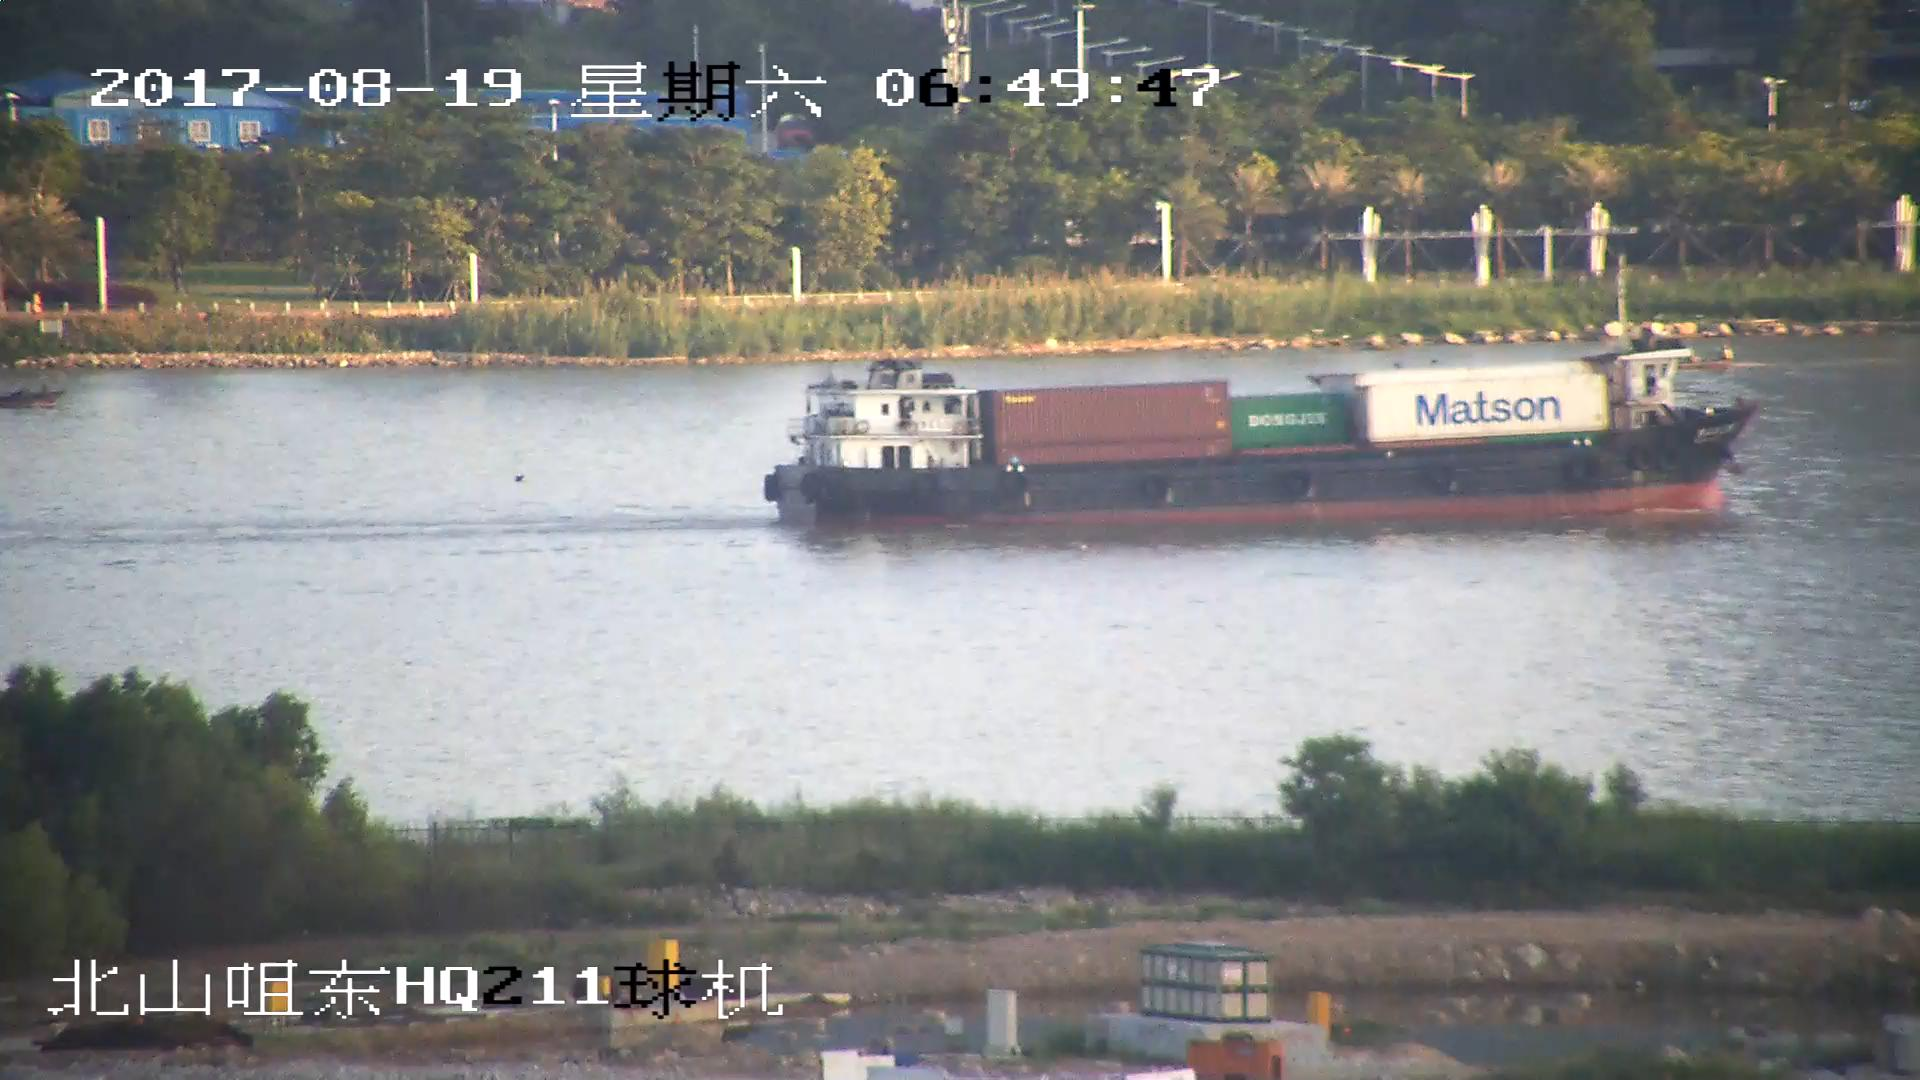container ship: (759, 256, 1761, 529)
